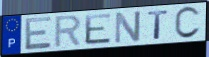C: (173, 5, 202, 41)
E: (23, 15, 53, 52), (84, 12, 113, 46)
N: (114, 10, 143, 46)
R: (52, 14, 84, 50)
T: (146, 9, 170, 40)
